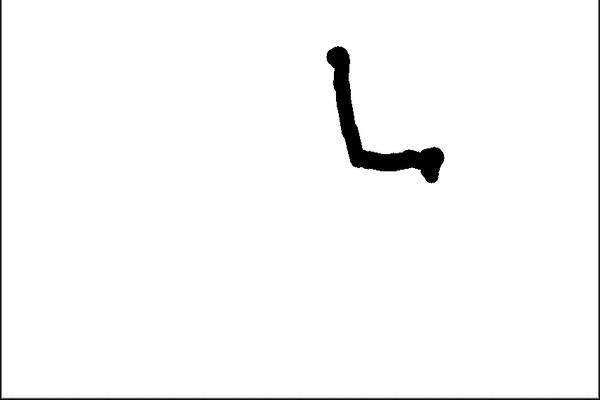L: (317, 37, 452, 183)
